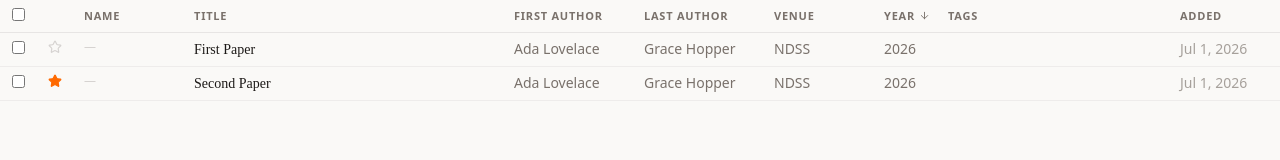
Scenario: LibraryTable › right-clicking the header offers reset-to-defaults
Right-click the row "Name Title First author Last author Venue Year Tags Added" at (640, 16), box x1=0 y1=0 x2=1279 y2=32
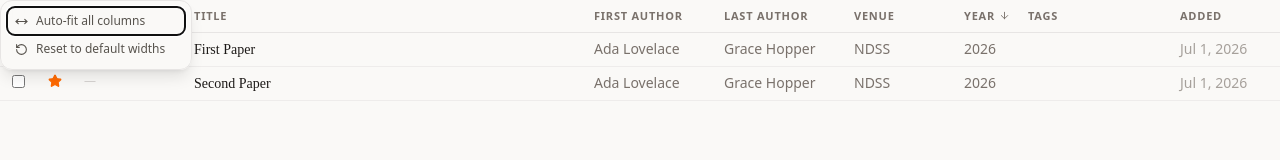
Click the menu item "Reset to default widths" at (96, 49), box x1=7 y1=35 x2=185 y2=63
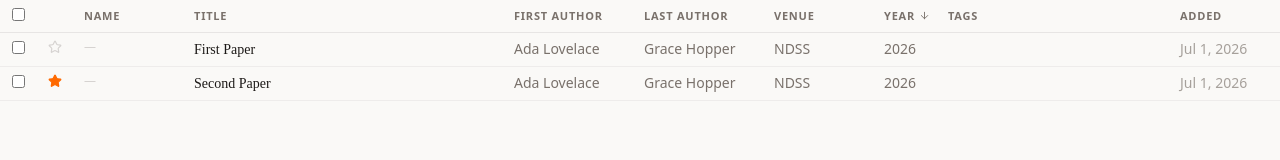
Expected: the menu is gone
